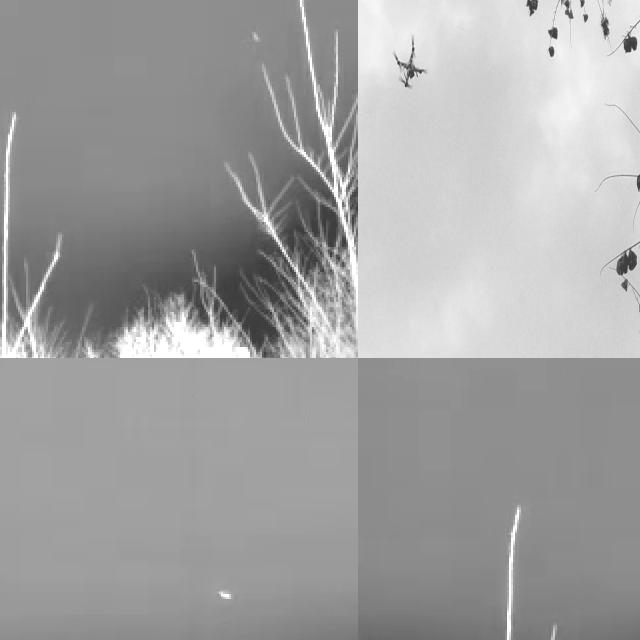0: (244, 26, 266, 50)
1: (210, 584, 242, 614)
drone: (392, 37, 428, 92)
